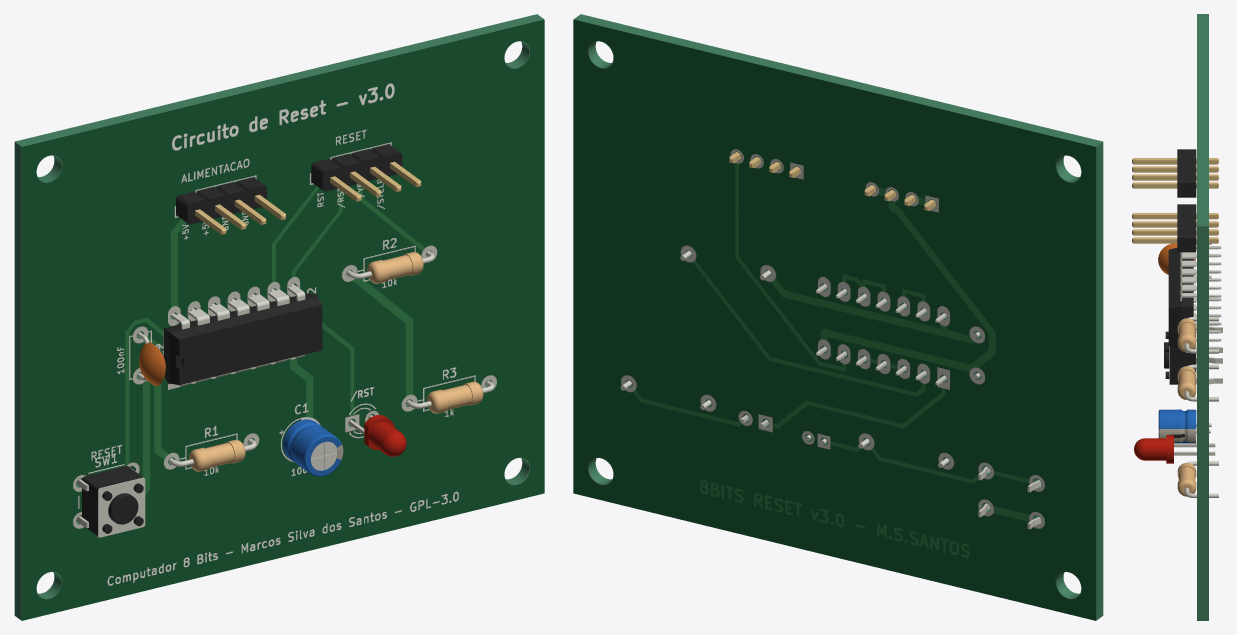
The model's file is reset-circuito.glb.
The picture shows the model from 3 angles, left to right: view 1: azimuth 30°, elevation 25°; view 2: azimuth 150°, elevation 25°; view 3: azimuth 270°, elevation 25°; orthographic projection. The views are drawn at different scales.
Parts seen in each view (by area): view 1: superficie_topo, =>[0:1:1:16], =>[0:1:1:7]_3fc6a2, =>[0:1:1:3]_d01493, =>[0:1:1:5]_2c9147, =>[0:1:1:5]_1_883feb, =>[0:1:1:15]_011d4b, =>[0:1:1:7]_39e767, =>[0:1:1:3]_64bd2e, =>[0:1:1:9]_7c21fe, =>[0:1:1:5]_1, =>[0:1:1:5]_2bcb2d (+4 smaller); view 2: superficie_fundo, =>[0:1:1:16], =>[0:1:1:7]_39e767; view 3: =>[0:1:1:16], =>[0:1:1:7]_3fc6a2, =>[0:1:1:5]_1, =>[0:1:1:5]_2bcb2d, =>[0:1:1:7]_39e767, =>[0:1:1:5]_1_883feb, =>[0:1:1:5]_2c9147, =>[0:1:1:9]_7c21fe, =>[0:1:1:3]_d01493, =>[0:1:1:15]_011d4b, =>[0:1:1:13]_1_f88a9e, =>[0:1:1:13]_be4e6c (+8 smaller).
Boxes of the visible parts, x1,y1,x2,y2 form: superficie_topo: (22, 19, 544, 620); =>[0:1:1:16]: (14, 14, 543, 620); =>[0:1:1:7]_3fc6a2: (163, 293, 322, 385); =>[0:1:1:3]_d01493: (82, 466, 143, 535); =>[0:1:1:5]_2c9147: (311, 144, 402, 191); =>[0:1:1:5]_1_883feb: (176, 177, 266, 224); =>[0:1:1:15]_011d4b: (283, 419, 341, 476); =>[0:1:1:7]_39e767: (171, 284, 305, 386); =>[0:1:1:3]_64bd2e: (76, 467, 145, 537); =>[0:1:1:9]_7c21fe: (364, 415, 406, 456); =>[0:1:1:5]_1: (195, 194, 285, 234); =>[0:1:1:5]_2bcb2d: (330, 161, 421, 201); superficie_fundo: (573, 19, 1095, 620); =>[0:1:1:16]: (574, 14, 1103, 620); =>[0:1:1:7]_39e767: (816, 284, 946, 384); =>[0:1:1:16]: (1197, 14, 1208, 620); =>[0:1:1:7]_3fc6a2: (1168, 247, 1193, 348); =>[0:1:1:5]_1: (1132, 158, 1218, 188); =>[0:1:1:5]_2bcb2d: (1132, 213, 1218, 243); =>[0:1:1:7]_39e767: (1180, 246, 1221, 349); =>[0:1:1:5]_1_883feb: (1177, 149, 1196, 197); =>[0:1:1:5]_2c9147: (1177, 204, 1196, 252); =>[0:1:1:9]_7c21fe: (1134, 435, 1173, 463); =>[0:1:1:3]_d01493: (1164, 331, 1196, 384); =>[0:1:1:15]_011d4b: (1158, 409, 1196, 443); =>[0:1:1:13]_1_f88a9e: (1177, 462, 1196, 496); =>[0:1:1:13]_be4e6c: (1177, 318, 1196, 352).
Bounding box in the file's own units: 0.0667 × 0.0578 × 0.012.
10 materials, 2 textured.
